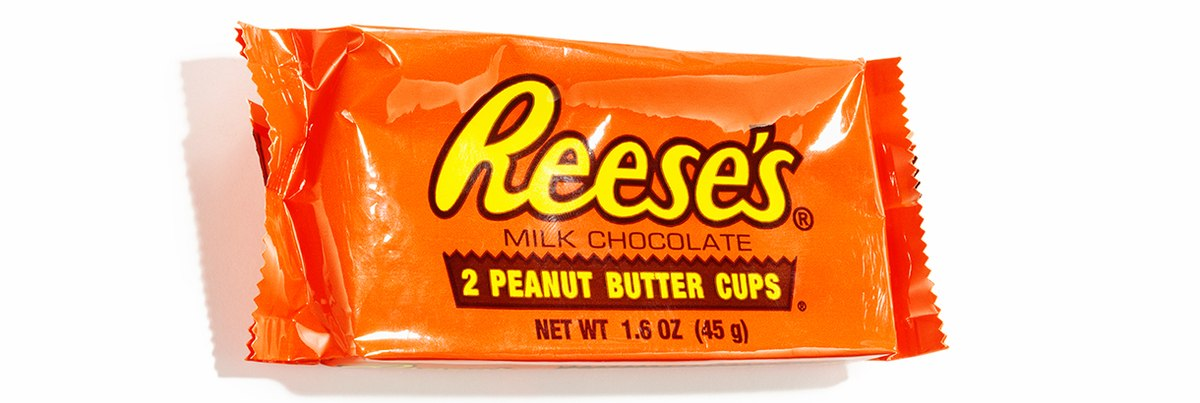reese: (229, 24, 948, 366)
